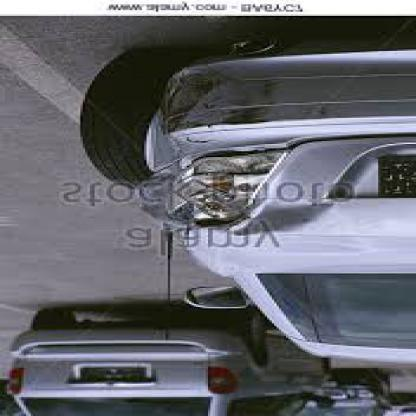dent: (249, 205, 323, 243)
